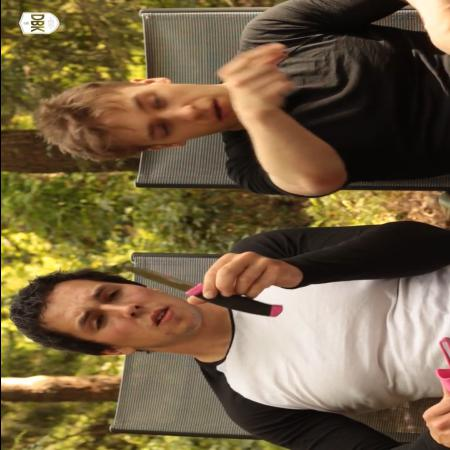long weapon: (111, 259, 287, 321)
